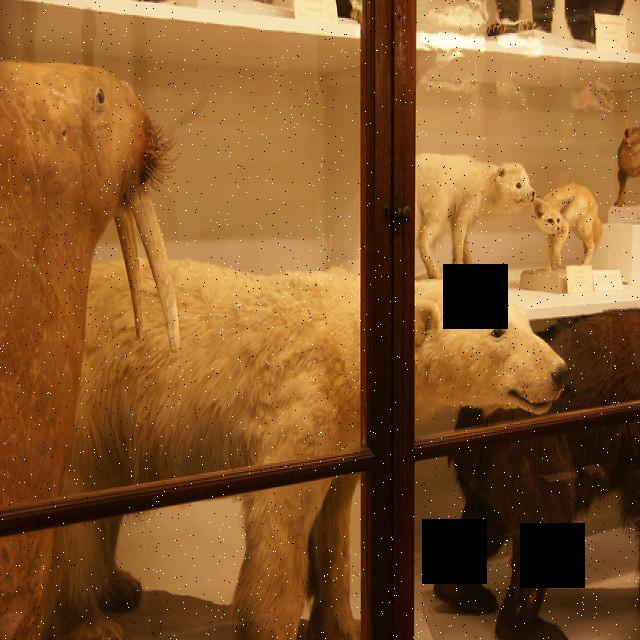Bear: (39, 258, 564, 638)
